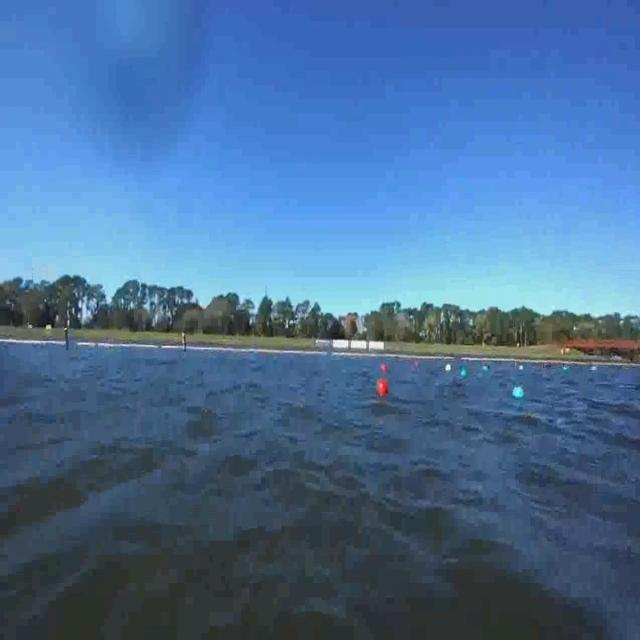green-buoy: (511, 383, 523, 398), (459, 365, 468, 381)
red-buoy: (378, 378, 390, 397), (380, 361, 387, 373)
yellow-buoy: (446, 363, 452, 376)
